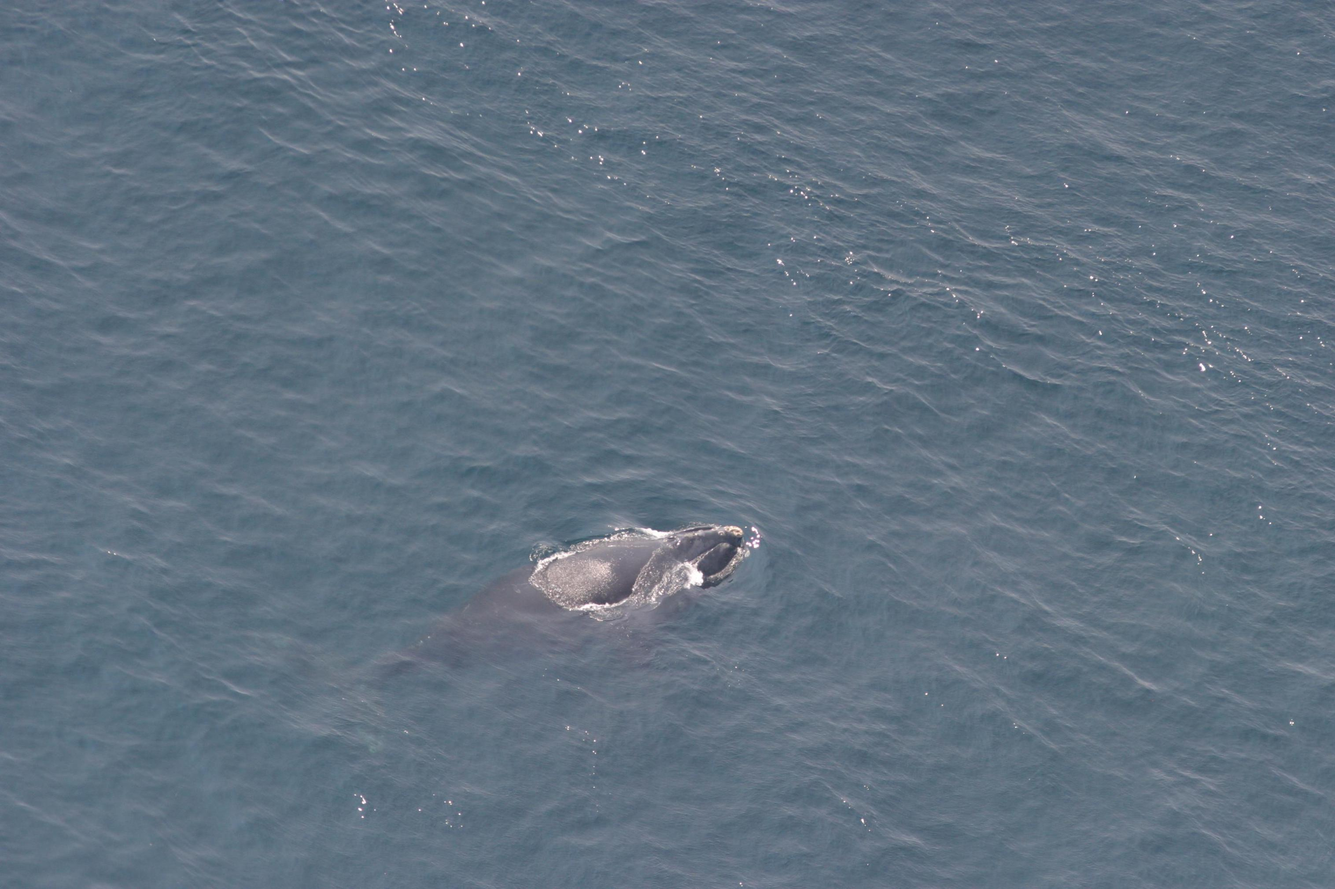whale: (269, 517, 767, 765)
